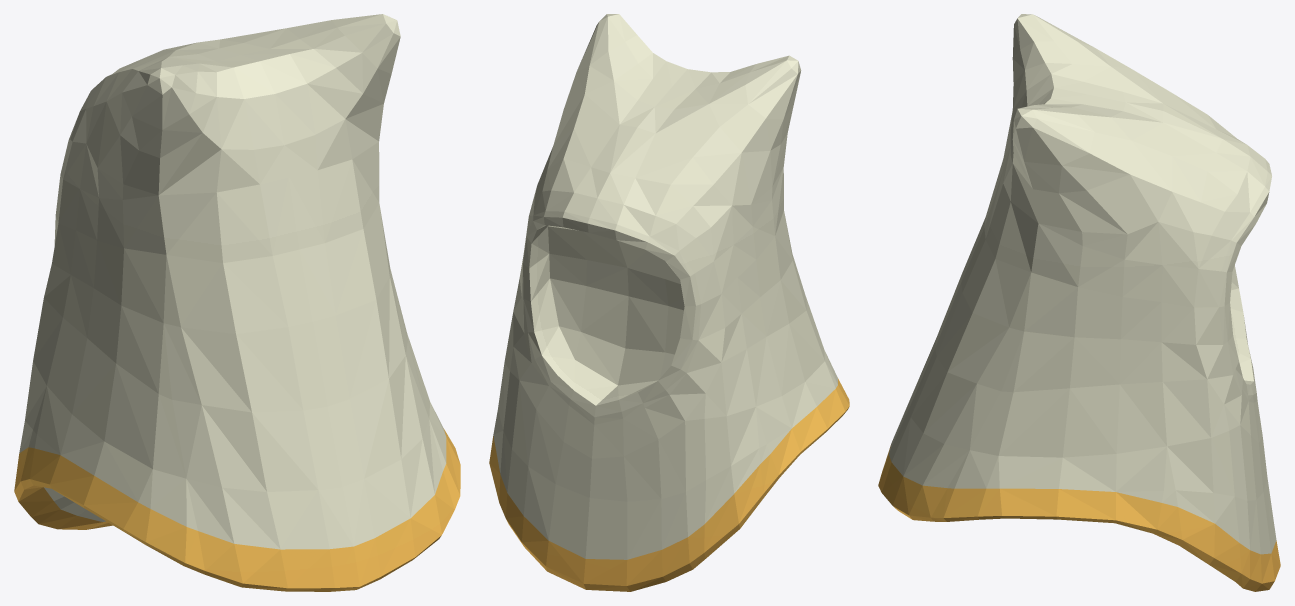
Rendered from CharSkyKid_Hair_Traveler_02.glb.
3 renders of one model, left to right at view 1: azimuth 30°, elevation 25°; view 2: azimuth 150°, elevation 25°; view 3: azimuth 270°, elevation 25°, orthographic. The views are drawn at different scales.
Visible parts, largest first — view 1: CharSkyKid_Hair_Traveler_02; view 2: CharSkyKid_Hair_Traveler_02; view 3: CharSkyKid_Hair_Traveler_02.
Part boxes in pixels (x1,y1,x2,y2): CharSkyKid_Hair_Traveler_02: [14, 14, 460, 591]; CharSkyKid_Hair_Traveler_02: [489, 14, 849, 591]; CharSkyKid_Hair_Traveler_02: [878, 14, 1280, 591].
Bounding box in the file's own units: 3.6 × 5.72 × 4.07.
1 material, 1 textured.
